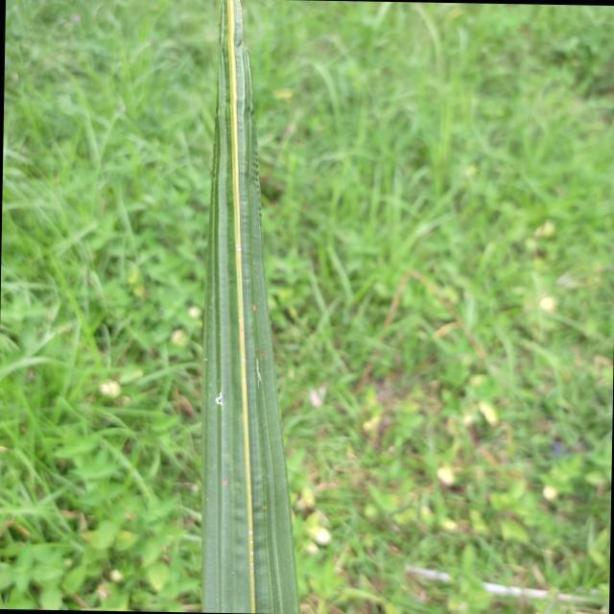Boron: (192, 0, 300, 614)
